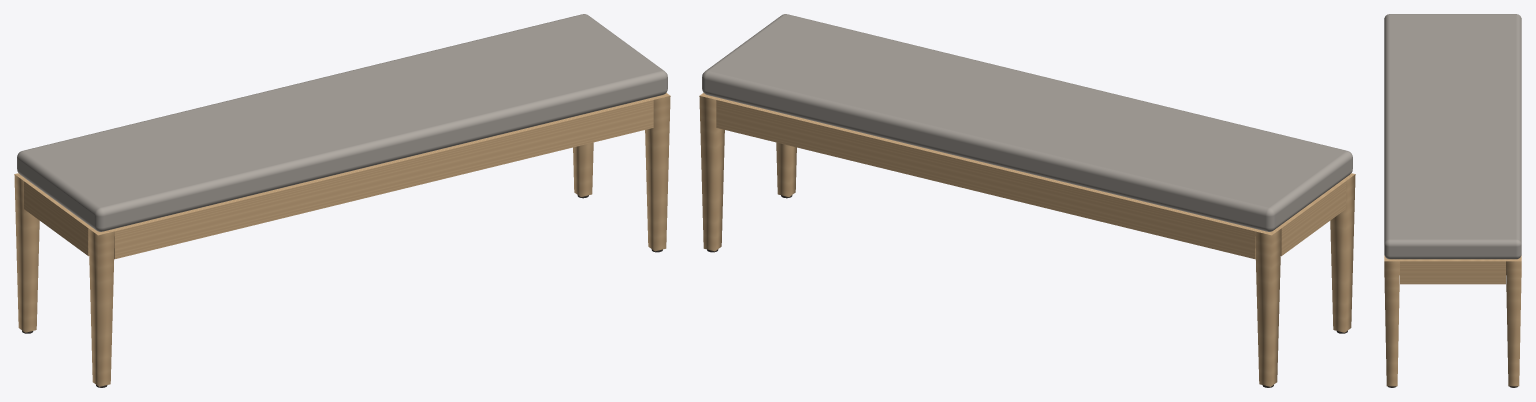
Rendered from ownDanishBench.glb.
The picture shows the model from 3 angles, left to right: view 1: azimuth 30°, elevation 25°; view 2: azimuth 150°, elevation 25°; view 3: azimuth 270°, elevation 25°; orthographic projection. The views are drawn at different scales.
Size of the model in its own units: 1.5 by 0.45 by 0.38.
3 materials, 1 textured.
